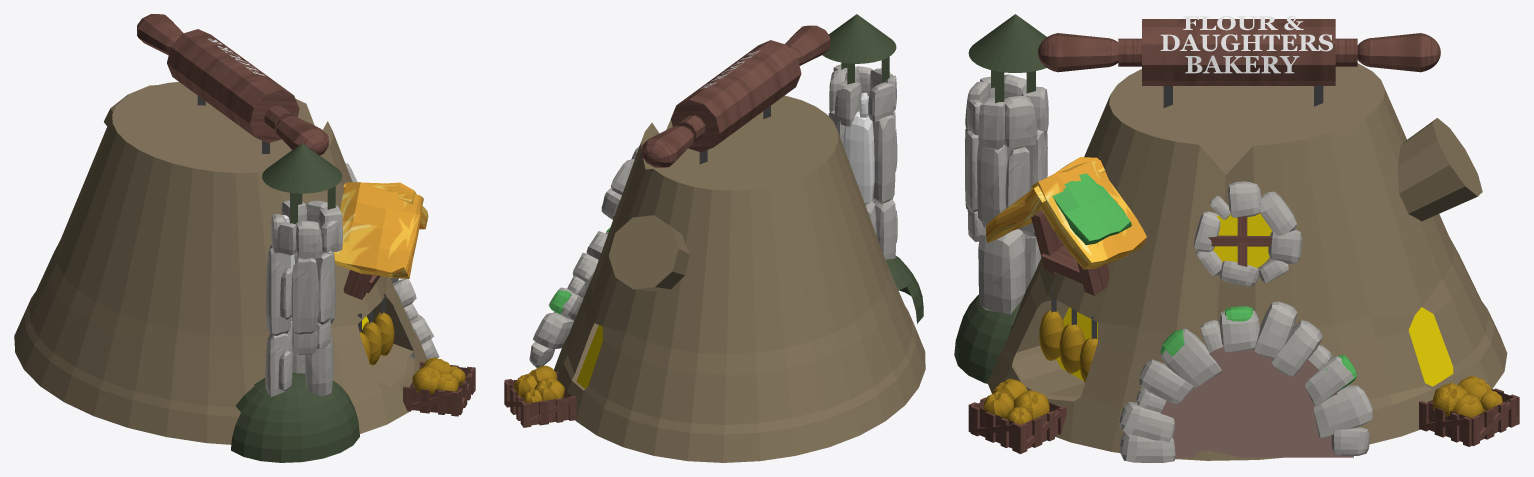
The model's file is FLOURNDAUGHTERS.glb.
The picture shows the model from 3 angles, left to right: view 1: azimuth 30°, elevation 25°; view 2: azimuth 150°, elevation 25°; view 3: azimuth 270°, elevation 25°; orthographic projection. The views are drawn at different scales.
Visible parts, largest first — view 1: Cylinder, Sphere, Cylinder.005, Cube_015.001, Cone, Rock.046, Cube_026.001, Rock.048, Sphere.002, Rock.044, Sphere.003, Rock.053 (+13 smaller); view 2: Cylinder, Cylinder.005, Cylinder.010, Cone, Rock.049, Cube_026.002, Rock.048, Sphere.003, Sphere.002, Rock.040, Rock.012, Sphere (+7 smaller); view 3: Cylinder, Circle, Cylinder.005, Cylinder.010, Cube_015, Rock.044, Sphere, Cube_015.002, Cone, Cube_026.002, Cube_026.001, Sphere.003 (+40 smaller).
Part boxes in pixels (x1,y1,x2,y2): Cylinder: [14, 81, 427, 444]; Sphere: [231, 372, 359, 462]; Cylinder.005: [167, 29, 299, 143]; Cube_015.001: [334, 182, 423, 278]; Cone: [262, 143, 342, 193]; Rock.046: [291, 258, 318, 334]; Cube_026.001: [403, 361, 475, 416]; Rock.048: [266, 245, 291, 335]; Sphere.002: [275, 116, 328, 155]; Rock.044: [305, 330, 333, 396]; Sphere.003: [137, 14, 183, 55]; Rock.053: [316, 253, 332, 324]; Cylinder: [554, 95, 925, 462]; Cylinder.005: [671, 40, 801, 152]; Cylinder.010: [608, 215, 689, 291]; Cone: [822, 14, 896, 63]; Rock.049: [843, 111, 874, 205]; Cube_026.002: [504, 372, 576, 427]; Rock.048: [872, 115, 895, 204]; Sphere.003: [641, 126, 693, 167]; Sphere.002: [785, 25, 830, 65]; Rock.040: [873, 199, 895, 259]; Rock.012: [533, 312, 573, 349]; Sphere: [885, 255, 923, 323]; Cylinder: [987, 63, 1507, 460]; Circle: [1160, 347, 1353, 457]; Cylinder.005: [1142, 19, 1335, 85]; Cylinder.010: [1397, 118, 1482, 221]; Cube_015: [1031, 160, 1146, 269]; Rock.044: [978, 227, 1025, 314]; Sphere: [954, 294, 1021, 383]; Cube_015.002: [1052, 173, 1131, 245]; Cone: [968, 14, 1046, 72]; Cube_026.002: [1419, 388, 1519, 446]; Cube_026.001: [968, 397, 1066, 453]; Sphere.003: [1357, 33, 1440, 72].
Size of the model in its own units: 13.31 by 11.91 by 16.88.
9 materials, 3 textured.
